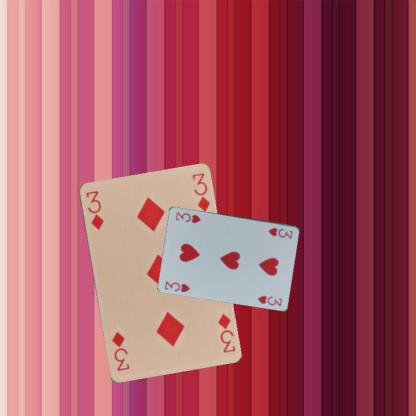3d: (83, 188, 105, 230), (215, 310, 236, 354)
3h: (162, 278, 192, 294), (266, 225, 294, 240)
